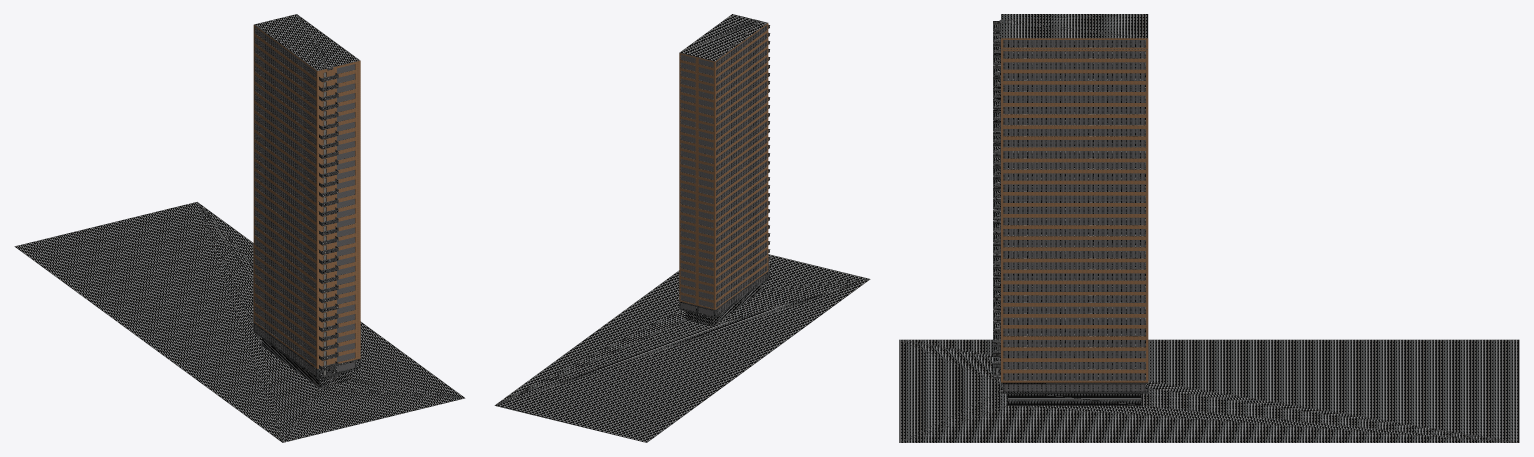
The model's file is capstone2_browntower-transformed.glb.
The picture shows the model from 3 angles, left to right: view 1: azimuth 30°, elevation 25°; view 2: azimuth 150°, elevation 25°; view 3: azimuth 270°, elevation 25°; orthographic projection. The views are drawn at different scales.
Visible parts, largest first — view 1: _(Loose Entity).001, C-Component#1; view 2: _(Loose Entity).001, C-Component#1; view 3: _(Loose Entity).001, C-Component#1.
Part boxes in pixels (x1,y1,x2,y2): _(Loose Entity).001: (14, 14, 465, 442); C-Component#1: (253, 25, 360, 368); _(Loose Entity).001: (494, 14, 870, 442); C-Component#1: (679, 23, 768, 309); _(Loose Entity).001: (899, 14, 1519, 442); C-Component#1: (1001, 38, 1148, 382).
Bounding box in the file's own units: 90.9 × 152 × 231.
Materials: 5 (5 with a texture image).
